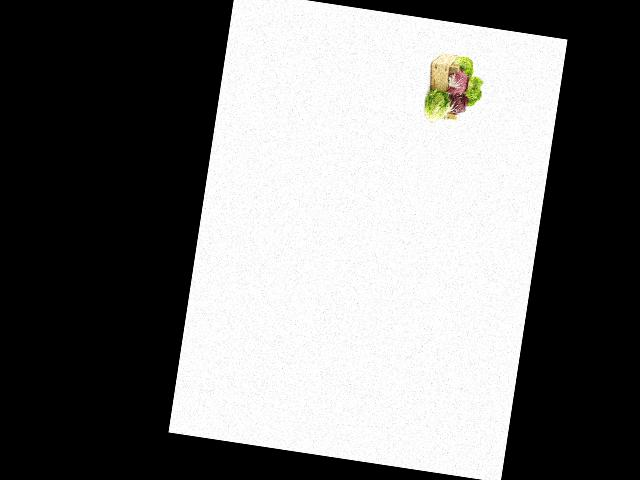lettuce: (458, 74, 484, 108)
